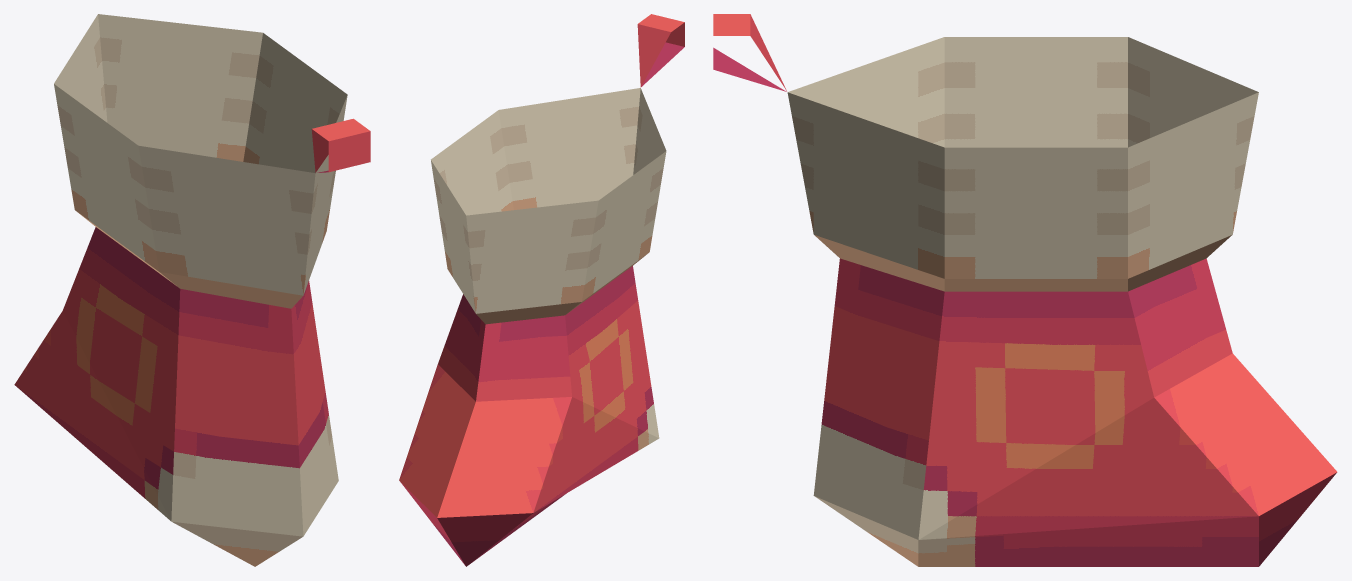
Rendered from stocking.fbx.
3 views of the same model, side by side, from view 1: azimuth 30°, elevation 25°; view 2: azimuth 150°, elevation 25°; view 3: azimuth 270°, elevation 25° (orthographic). The views are drawn at different scales.
Parts seen in each view (by area): view 1: Plane.007; view 2: Plane.007; view 3: Plane.007.
Boxes of the visible parts, <box> form: Plane.007: <box>14,14,370,566</box>; Plane.007: <box>399,14,684,566</box>; Plane.007: <box>713,14,1337,566</box>.
Size of the model in its own units: 31.25 by 71.34 by 74.46.
1 material, 1 textured.
